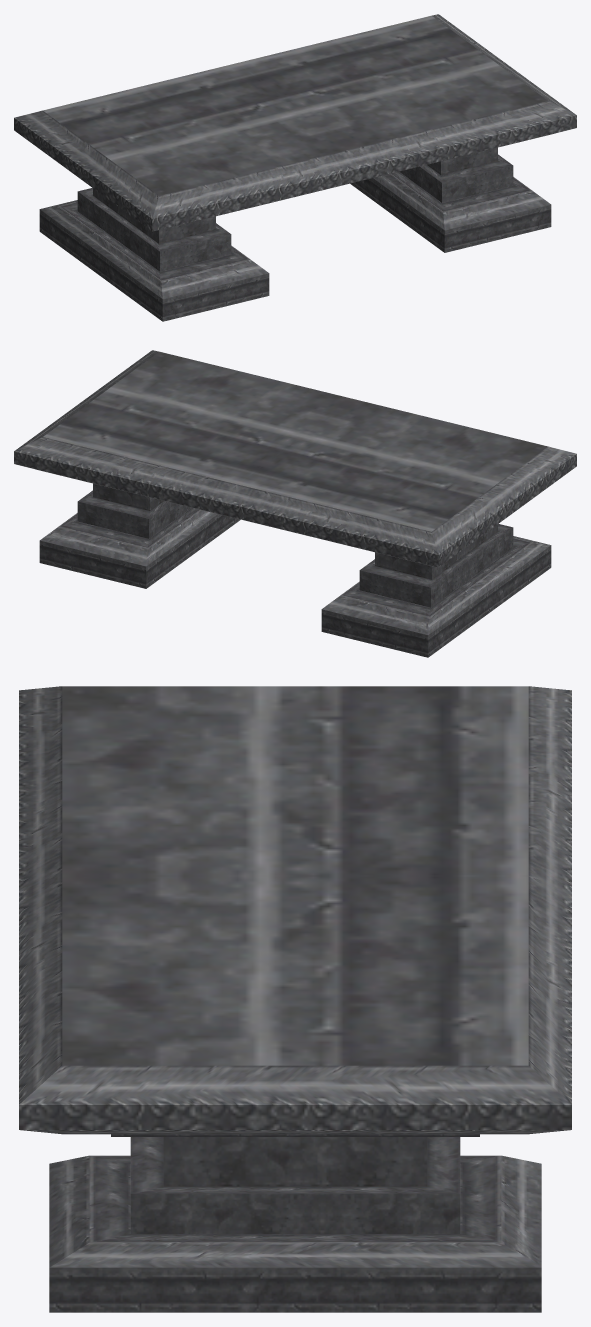
Rendered from bench-02.fbx.
3 renders of one model, top to bottom at view 1: azimuth 30°, elevation 25°; view 2: azimuth 150°, elevation 25°; view 3: azimuth 270°, elevation 25°, orthographic. The views are drawn at different scales.
Visible parts, largest first — view 1: Cube.266; view 2: Cube.266; view 3: Cube.266.
Boxes of the visible parts, x1,y1,x2,y2 form: Cube.266: [14, 14, 576, 321]; Cube.266: [14, 350, 576, 657]; Cube.266: [19, 686, 571, 1312].
Bounding box in the file's own units: 1.39 × 0.3877 × 0.7864.
